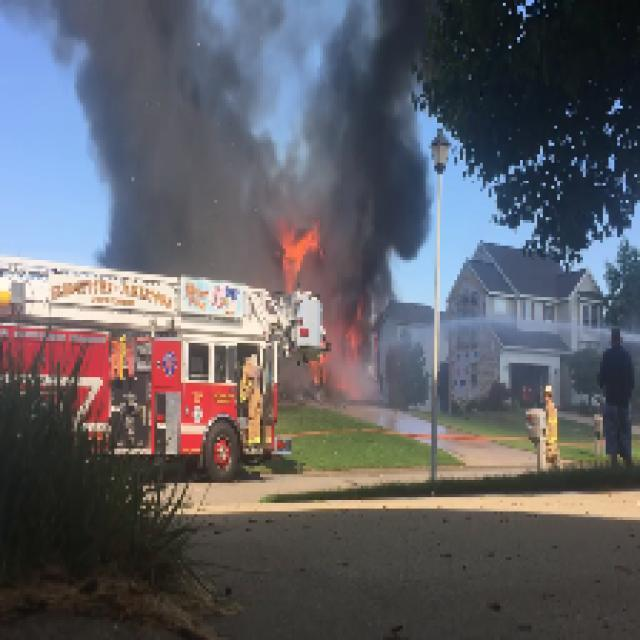Fire: (280, 223, 317, 288)
Smoke: (62, 2, 268, 258), (278, 2, 426, 212), (328, 212, 423, 298)
